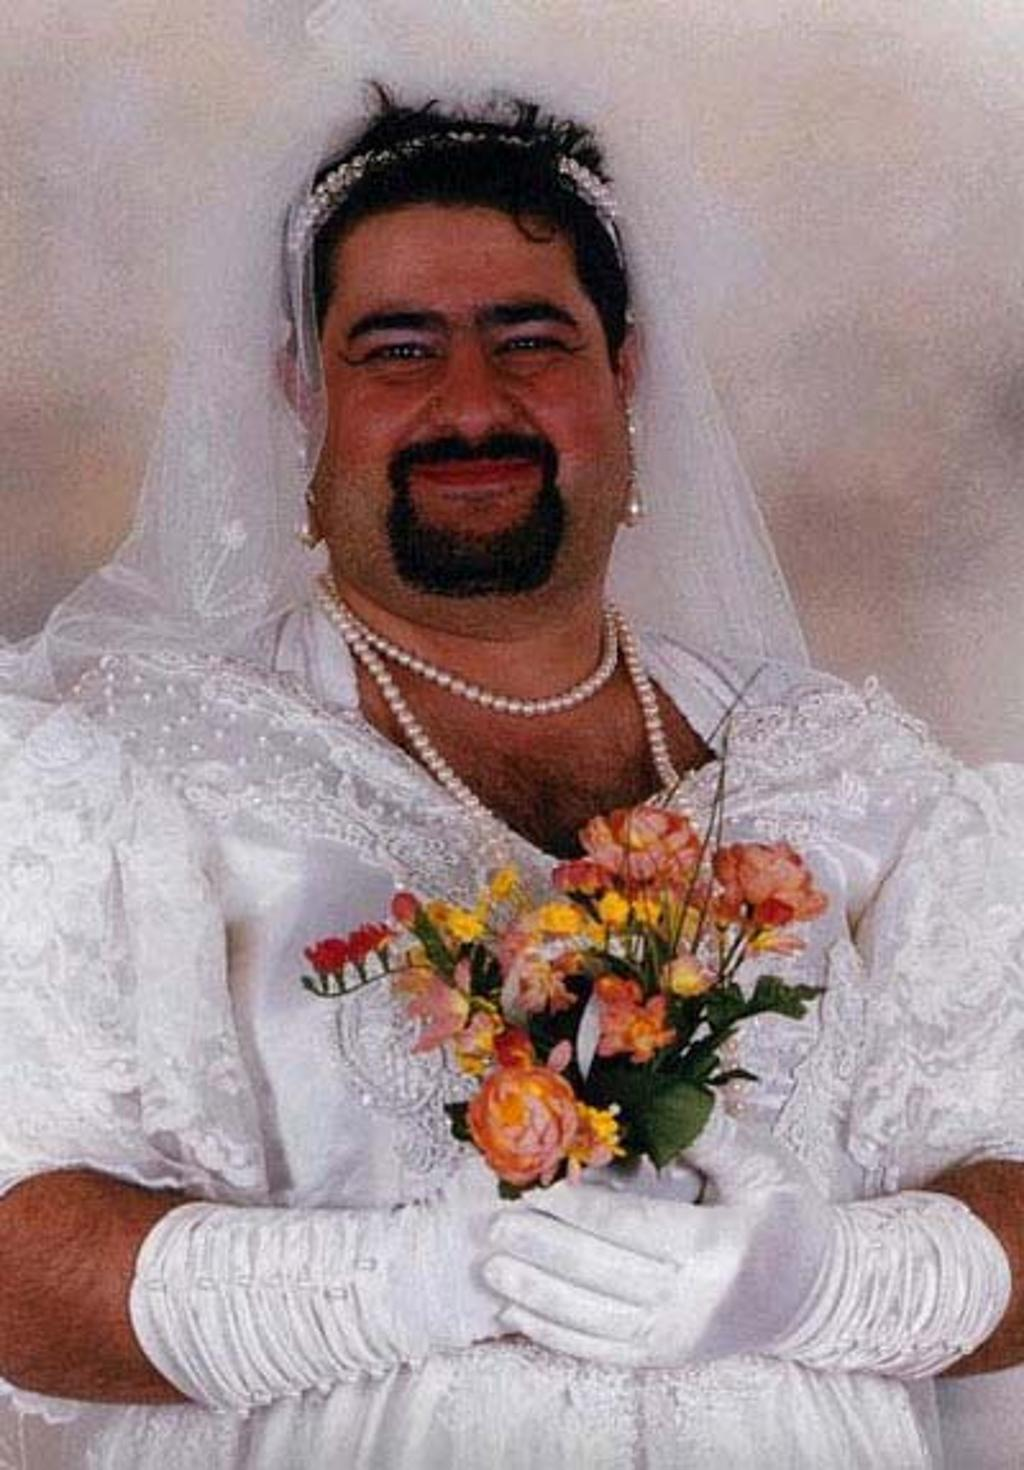face: (301, 204, 622, 608)
